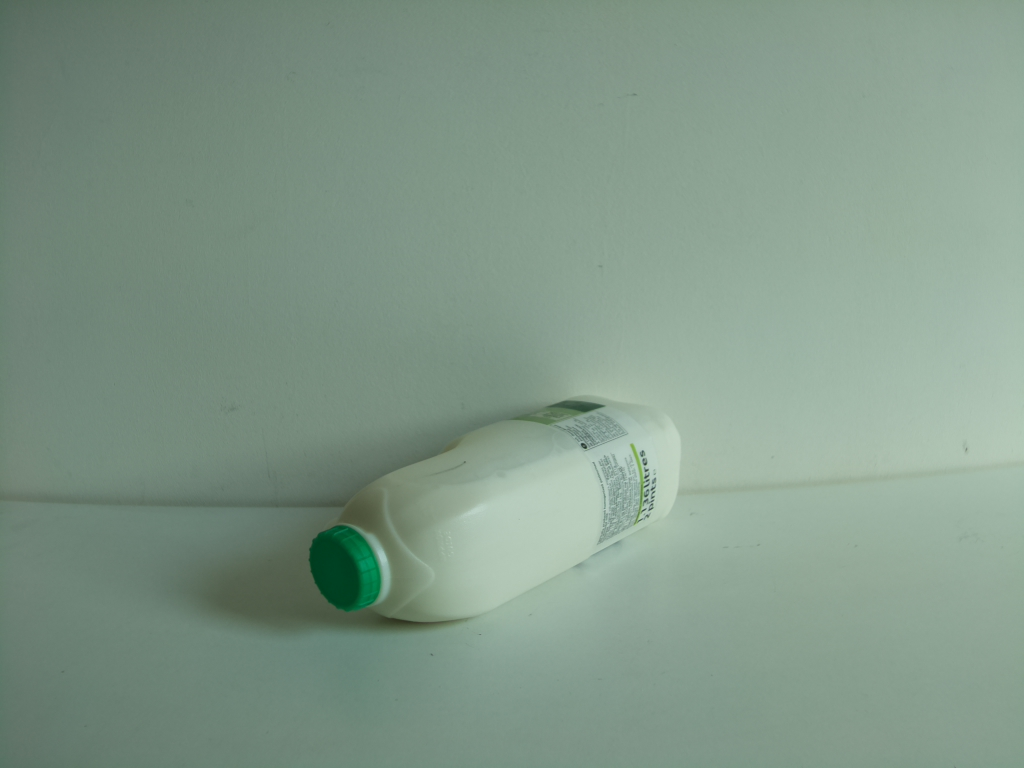milk: (301, 387, 687, 642)
